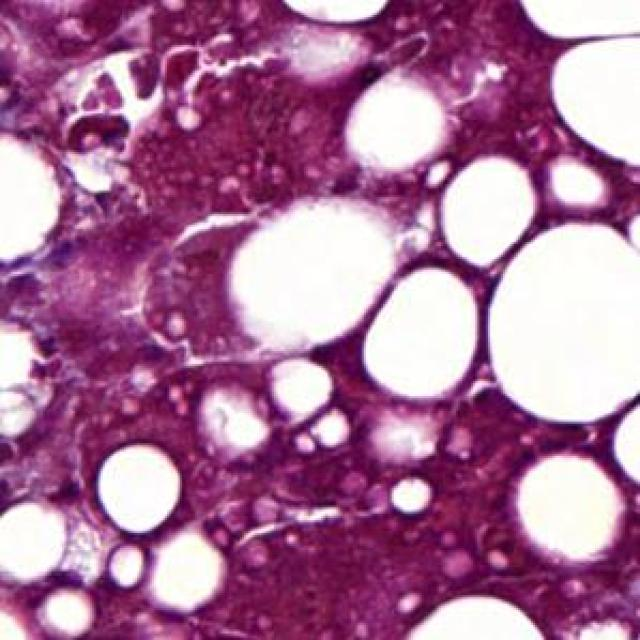steatosis: (364, 261, 481, 411), (88, 445, 195, 533)
